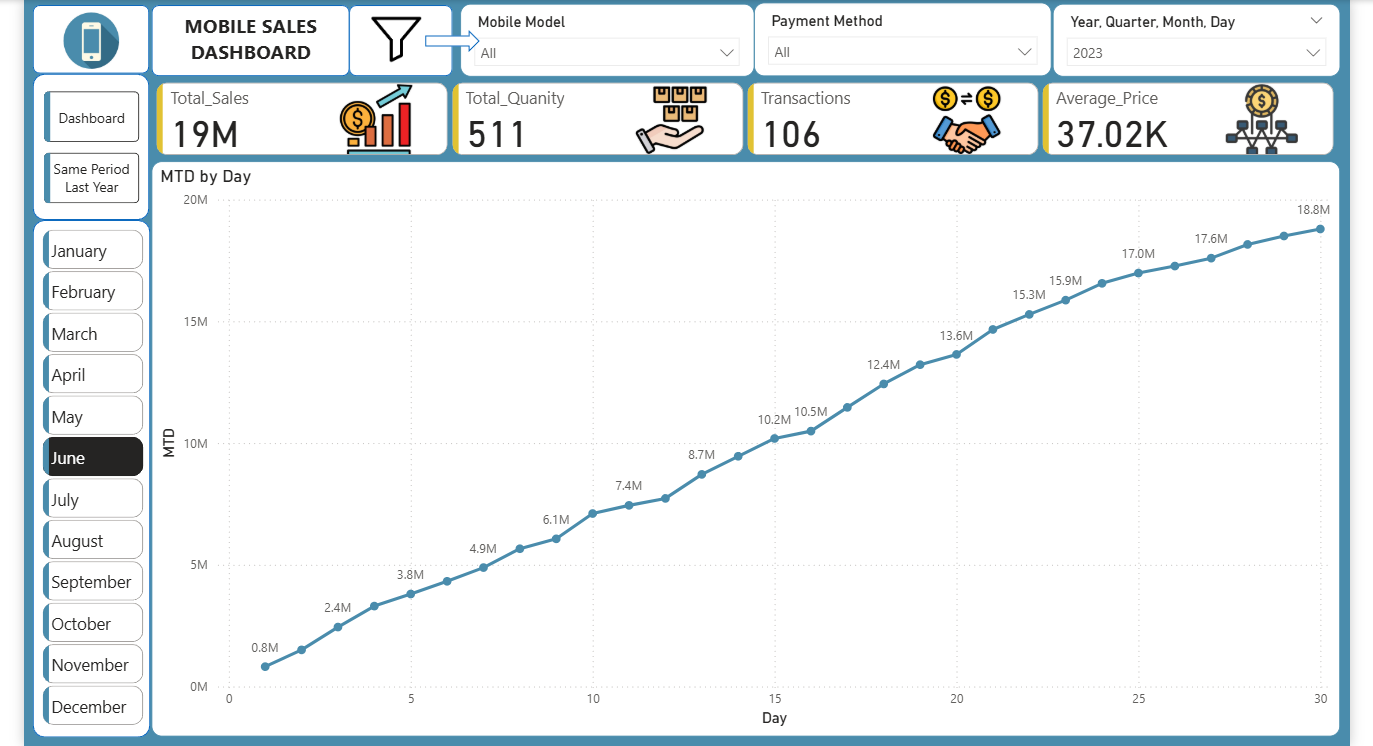

This screenshot's page, from the dashboard's own definition file:
{"tool":"powerbi","page":{"name":"MTD Report","canvas":[1280,720],"ordinal":1},"visuals":[{"type":"shape","box":[8.8,5,112.5,66.2],"z":0},{"type":"image","box":[32.6,7.2,65.1,63.9],"z":1000},{"type":"shape","box":[8.8,71.2,112.5,141.2],"z":2000},{"type":"shape","box":[8.4,212.3,113.4,499.5],"z":3000},{"type":"advancedSlicerVisual","fields":{"Values":["Custom_Calendar.Date.Variation.Date Hierarchy.Month"]},"box":[13.3,220.8,103.8,482.6],"z":4000},{"type":"slicer","fields":{"Values":["Mobile_Sales_Data.Mobile Model"]},"box":[421.2,3.8,283.8,70],"z":6000},{"type":"slicer","fields":{"Values":["Mobile_Sales_Data.Payment Method"]},"box":[705,2.5,287.5,71.2],"z":7000},{"type":"slicer","fields":{"Values":["Custom_Calendar.Date.Variation.Date Hierarchy.Year","Custom_Calendar.Date.Variation.Date Hierarchy.Quarter","Custom_Calendar.Date.Variation.Date Hierarchy.Month","Custom_Calendar.Date.Variation.Date Hierarchy.Day"]},"box":[992.5,3.8,277.5,70],"z":8000},{"type":"shape","box":[313.8,5,100,68.8],"z":9000},{"type":"image","box":[330,5,57.5,66.2],"z":10000},{"type":"shape","box":[387.5,28.8,52.5,21.2],"z":11000},{"type":"shape","box":[122.5,5,191.2,68.8],"z":12000},{"type":"textbox","box":[132.5,7.5,172.5,63.8],"z":13000},{"type":"lineChart","fields":{"Y":["Mobile_Sales_Data.MTD"],"Category":["Custom_Calendar.Date.Variation.Date Hierarchy.Year","Custom_Calendar.Date.Variation.Date Hierarchy.Quarter","Custom_Calendar.Date.Variation.Date Hierarchy.Month","Custom_Calendar.Date.Variation.Date Hierarchy.Day"]},"box":[123.1,155.6,1147.3,555],"z":14000},{"type":"pageNavigator","box":[19.3,88.1,92.9,108.6],"z":15000},{"type":"cardVisual","fields":{"Data":["Mobile_Sales_Data.Total_Sales","Mobile_Sales_Data.Total_Quanity","Mobile_Sales_Data.Transactions","Mobile_Sales_Data.Average_Price"]},"box":[123.1,74.8,1147.3,80.8],"z":15001}]}

Visuals, with their boxes on the page's 1280x720 design canvas (x1, y1, x2, y2). These are canvas units, not pixel positions in the 1373x746 screenshot, which may show the page scaled, cropped or inside an application window:
shape: [9, 5, 121, 71]
image: [33, 7, 98, 71]
shape: [9, 71, 121, 212]
shape: [8, 212, 122, 712]
advancedSlicerVisual - Custom_Calendar.Date.Variation.Date Hierarchy.Month: [13, 221, 117, 703]
slicer - Mobile_Sales_Data.Mobile Model: [421, 4, 705, 74]
slicer - Mobile_Sales_Data.Payment Method: [705, 2, 992, 74]
slicer - Custom_Calendar.Date.Variation.Date Hierarchy.Year x Custom_Calendar.Date.Variation.Date Hierarchy.Quarter: [992, 4, 1270, 74]
shape: [314, 5, 414, 74]
image: [330, 5, 388, 71]
shape: [388, 29, 440, 50]
shape: [122, 5, 314, 74]
textbox: [132, 8, 305, 71]
lineChart - Mobile_Sales_Data.MTD x Custom_Calendar.Date.Variation.Date Hierarchy.Year: [123, 156, 1270, 711]
pageNavigator: [19, 88, 112, 197]
cardVisual - Mobile_Sales_Data.Total_Sales x Mobile_Sales_Data.Total_Quanity: [123, 75, 1270, 156]
